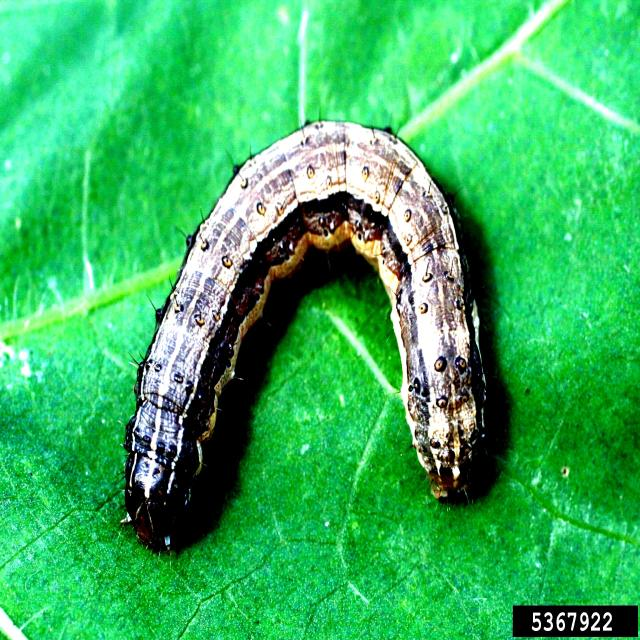armyworm: (120, 117, 488, 555)
